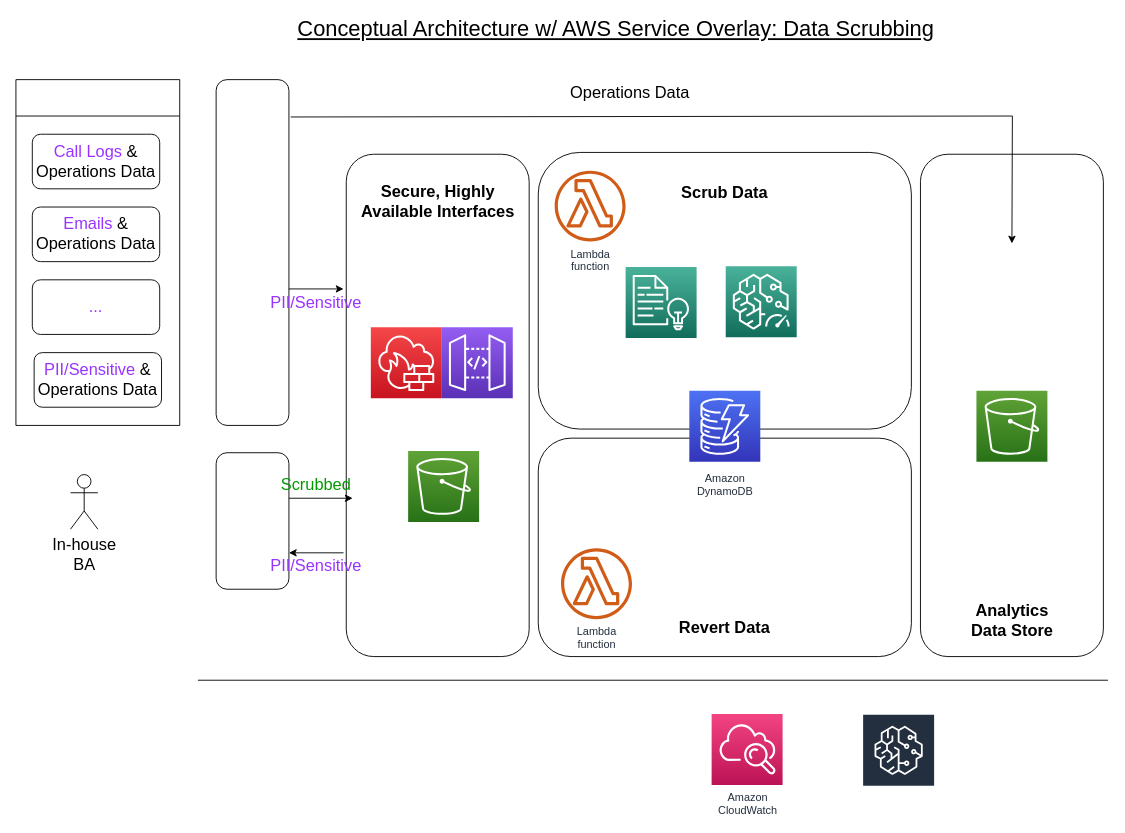
The diagram is 1125 pixels wide and 833 high, and some of its shapes have lost their labels. Each missing label, with the box of its shape:
Amazon API Gateway: (441, 326, 513, 398)
Amazon SageMaker: (861, 713, 935, 814)
Data Sets: (15, 79, 180, 425)
Debug, Reports, ...: (215, 452, 289, 589)
ETL: (215, 79, 289, 425)
